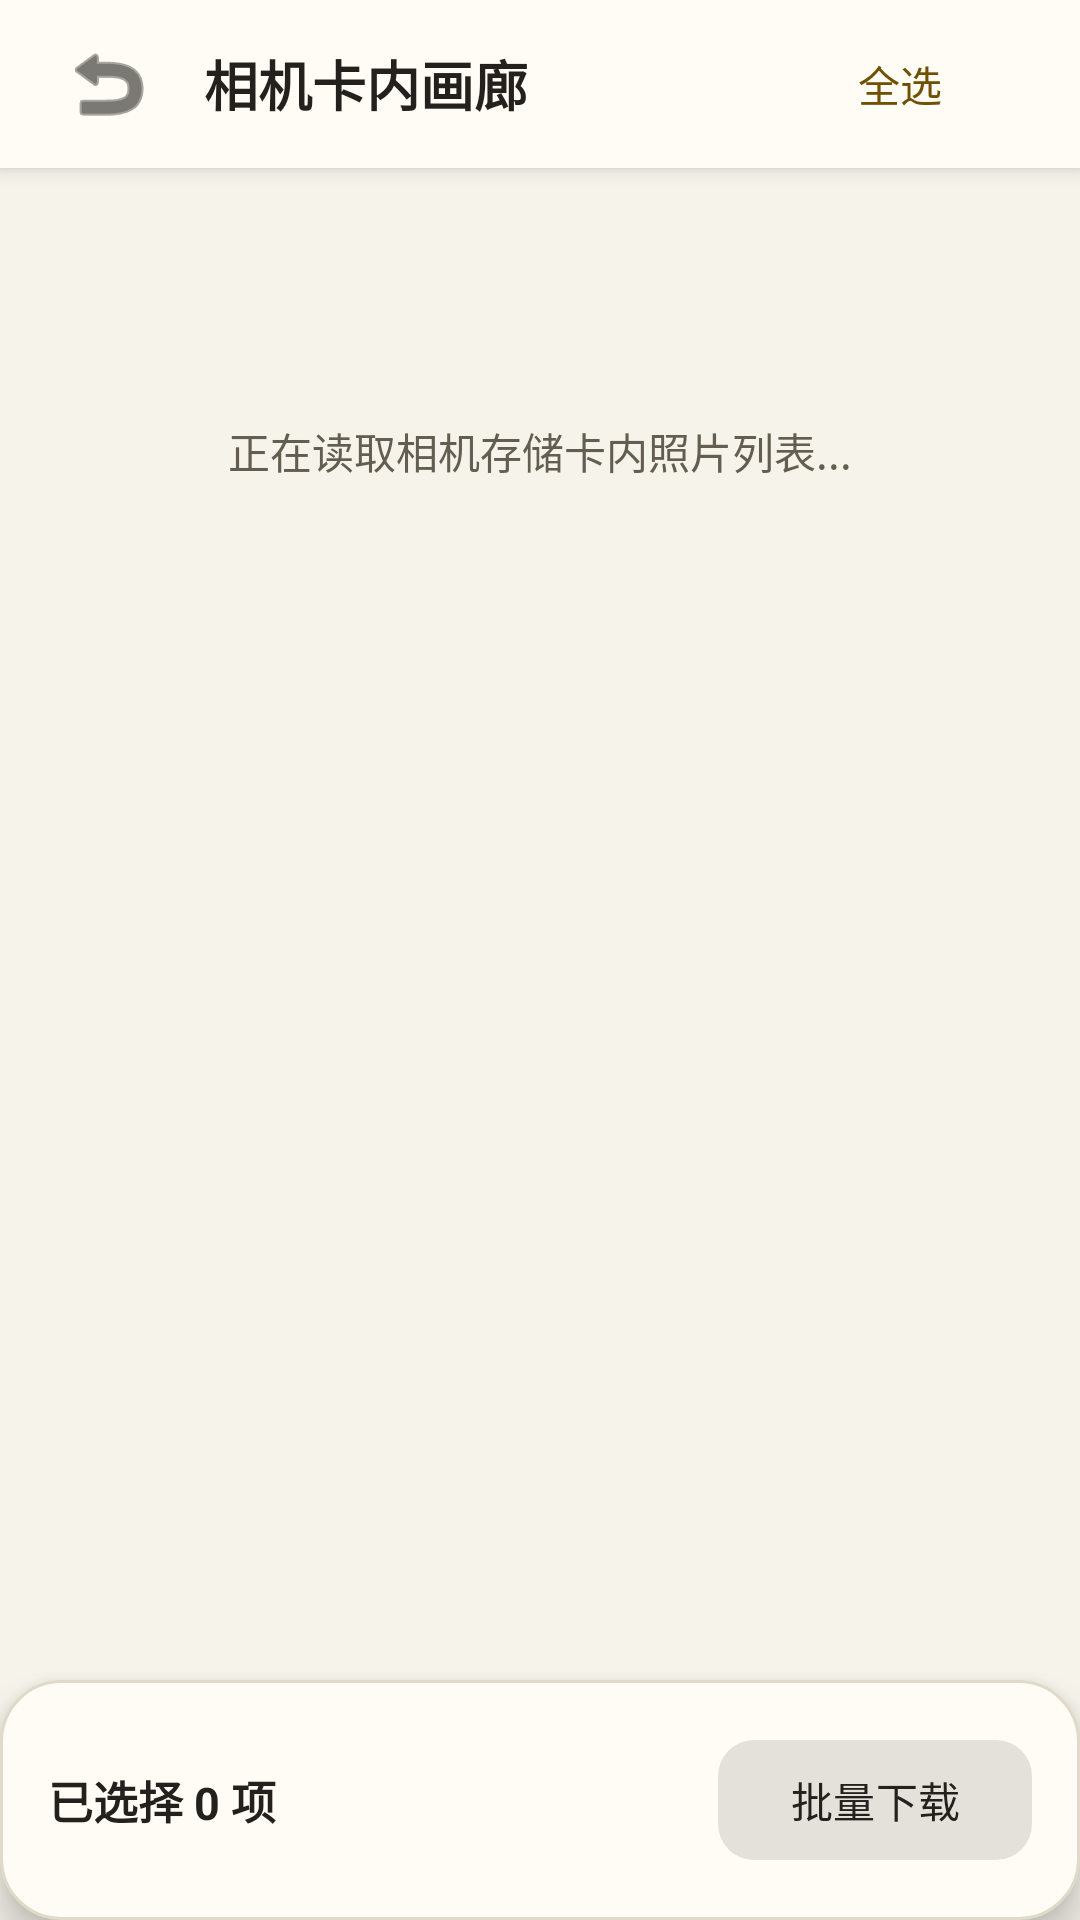

Icons on this 1080w x 1920h Android screen, each with its box as box(x1, y1, x2, y2):
返回: box(75, 53, 144, 116)
